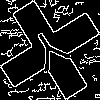Y: (25, 25, 78, 82)
